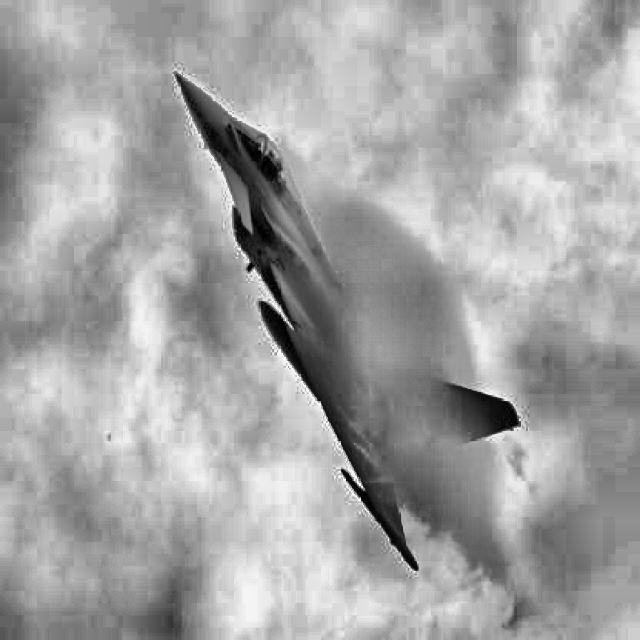EF2000: (174, 72, 520, 571)
